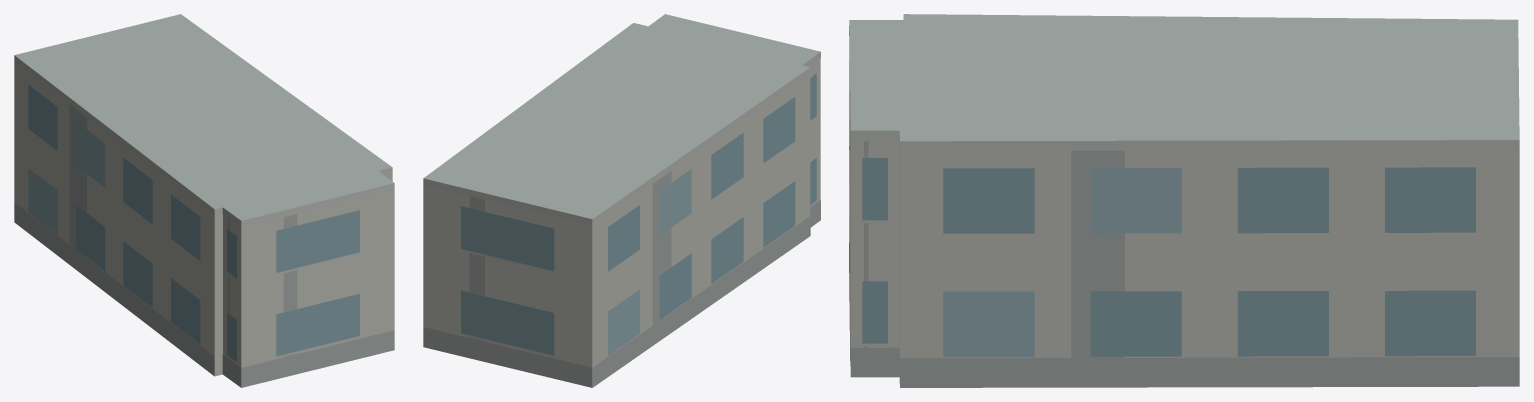
The model's file is survey-upis-32875489.glb.
The picture shows the model from 3 angles, left to right: view 1: azimuth 30°, elevation 25°; view 2: azimuth 150°, elevation 25°; view 3: azimuth 270°, elevation 25°; orthographic projection. The views are drawn at different scales.
Parts seen in each view (by area): view 1: survey-upis-32875489.tmp; view 2: survey-upis-32875489.tmp; view 3: survey-upis-32875489.tmp.
Part boxes in pixels (box(x1,y1,x2,y2)): survey-upis-32875489.tmp: box(14, 14, 394, 387); survey-upis-32875489.tmp: box(423, 14, 820, 387); survey-upis-32875489.tmp: box(849, 14, 1519, 387).
Bounding box in the file's own units: 6.76 × 6.1 × 15.04.
